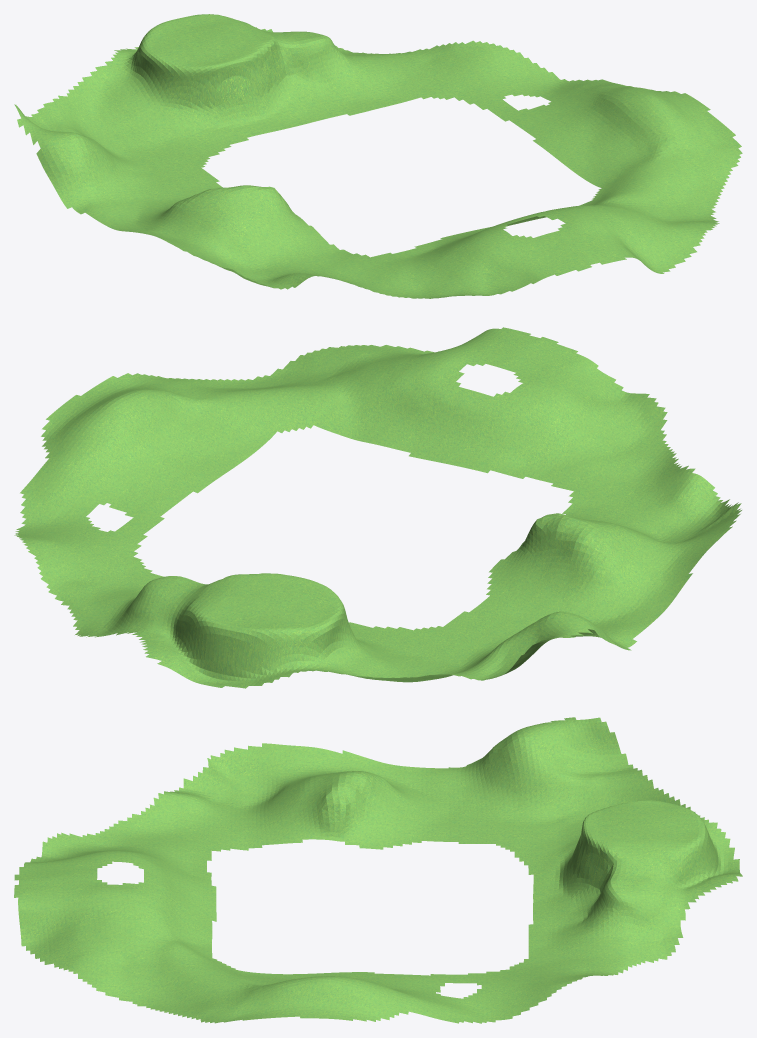
The model's file is grassLevel2.obj.
The picture shows the model from 3 angles, top to bottom: view 1: azimuth 30°, elevation 25°; view 2: azimuth 150°, elevation 25°; view 3: azimuth 270°, elevation 25°; orthographic projection. The views are drawn at different scales.
Parts seen in each view (by area): view 1: Plane.002_Plane.008; view 2: Plane.002_Plane.008; view 3: Plane.002_Plane.008.
Part boxes in pixels (x1,y1,x2,y2): Plane.002_Plane.008: (14,14,742,298); Plane.002_Plane.008: (14,327,741,688); Plane.002_Plane.008: (14,717,742,1023).
Bounding box in the file's own units: 195 × 20.03 × 217.
